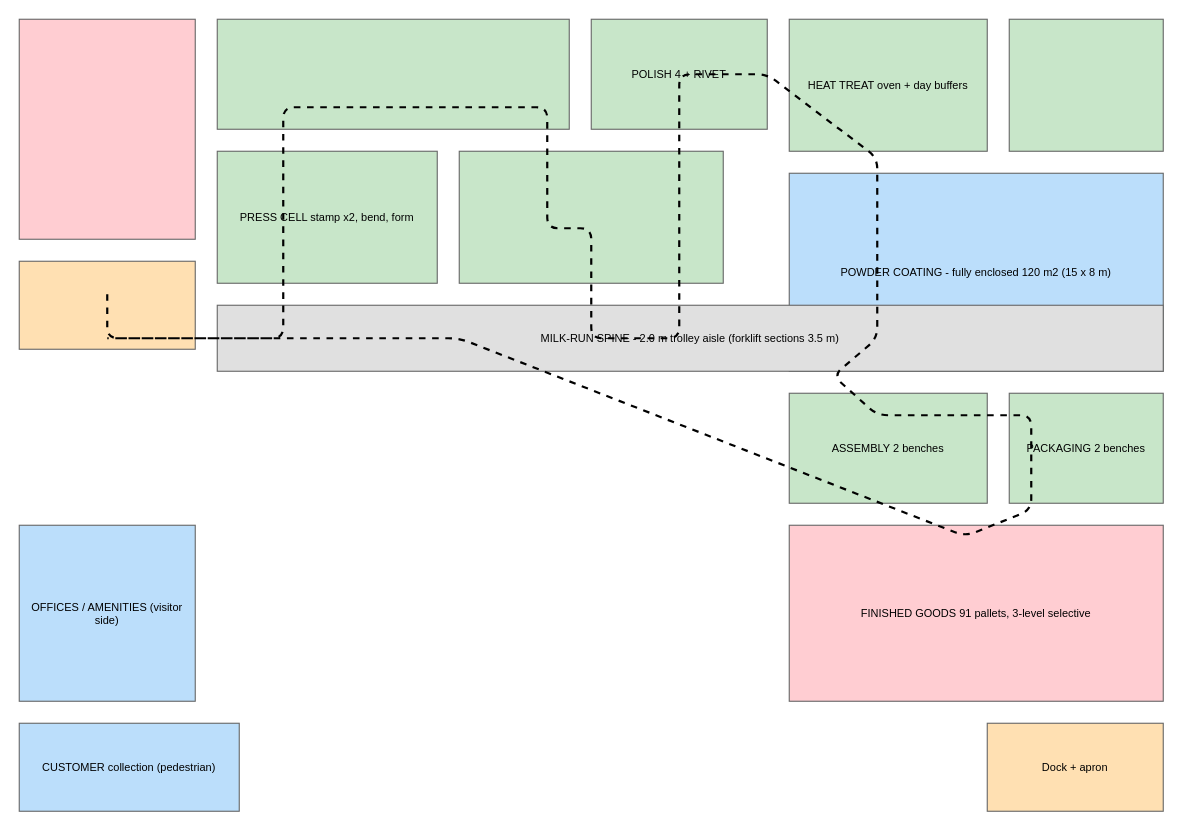
Image size: 1183x831. Some labels were removed from this diagram. Each missing label, with the centre of its shape:
"FINISHING sharpen 8 + serrate 4" goes at point (590, 216).
"Ground bay + skips" goes at point (106, 304).
"RM STORE tube racks + sheet stacks" goes at point (106, 128).
"SANDBLAST" goes at point (1085, 84).
"TUBE LINE saws > thread/narrow > knurl bank" goes at point (392, 73).
